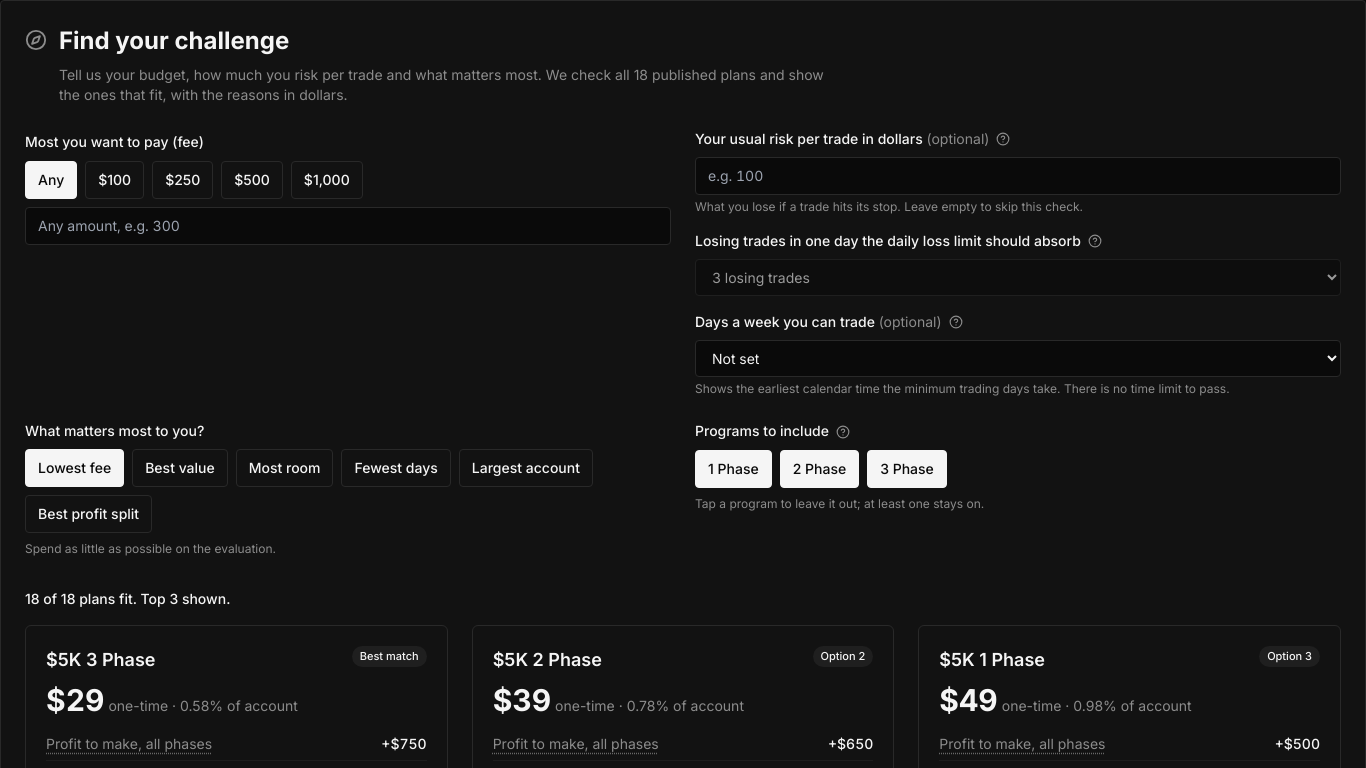
Scenario: challenge finder widget › rejects text that isn't an amount
Type "cheap" into the field labelled "Most you want to pay (fee)".
click(348, 226); type("cheap")  # box [25, 207, 671, 245]
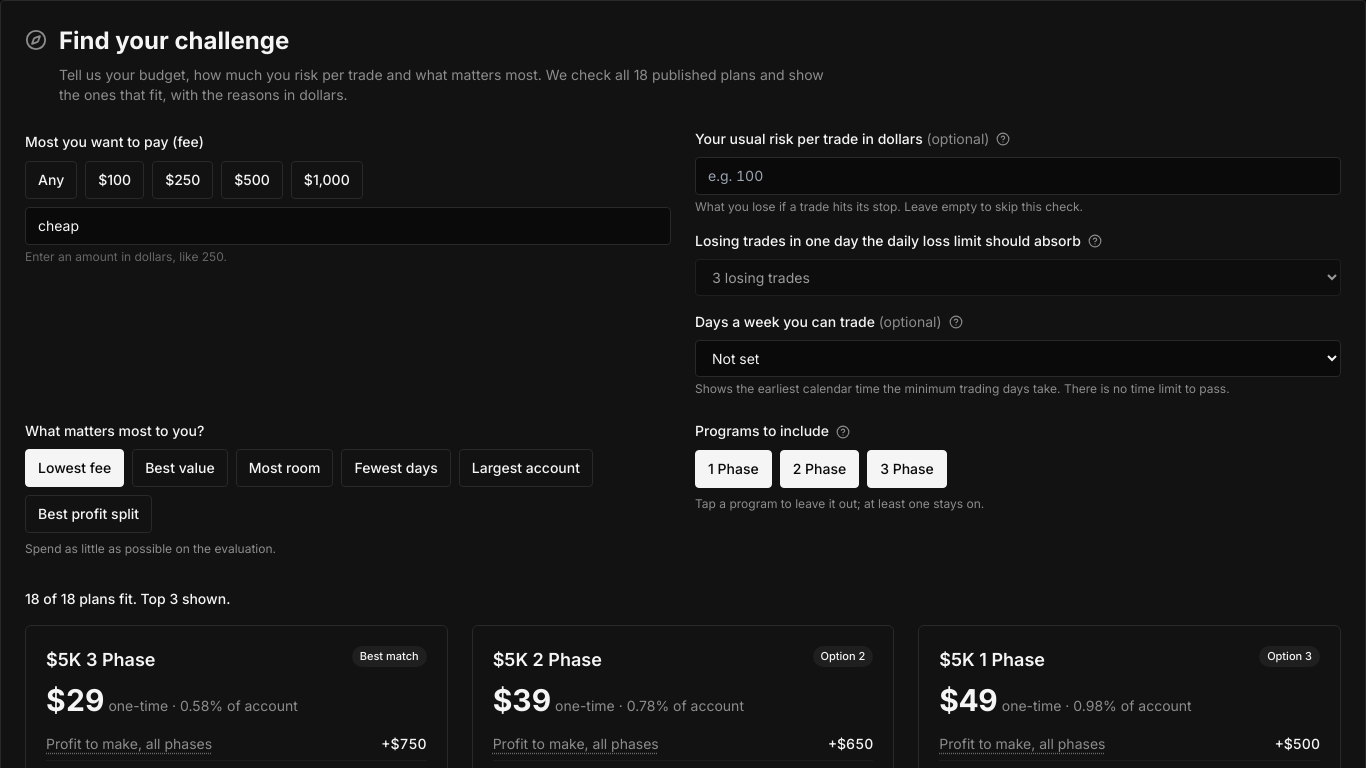
expect the text "Enter an amount in dollars, like 250." is shown: met, box [25, 249, 227, 264]
